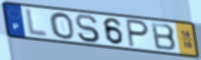6: (102, 17, 125, 46)
B: (150, 21, 178, 52)
L: (24, 7, 49, 39)
O: (48, 11, 76, 41)
P: (125, 18, 151, 50)
S: (74, 13, 102, 44)
